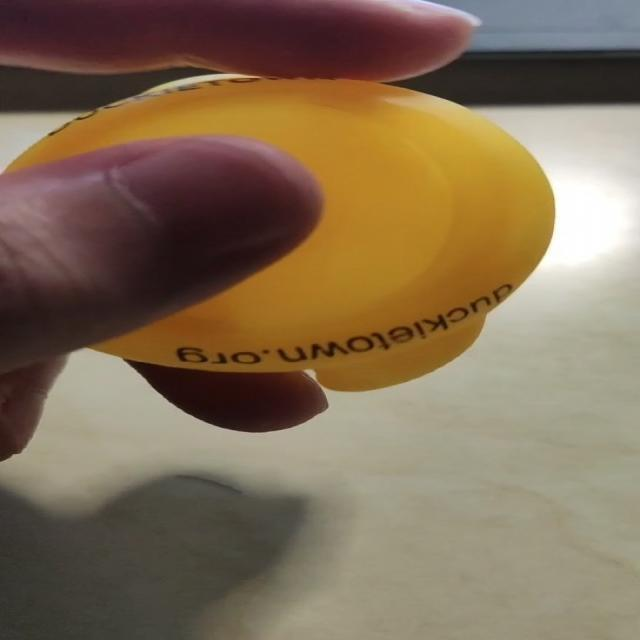rubber-duck: (8, 75, 552, 389)
